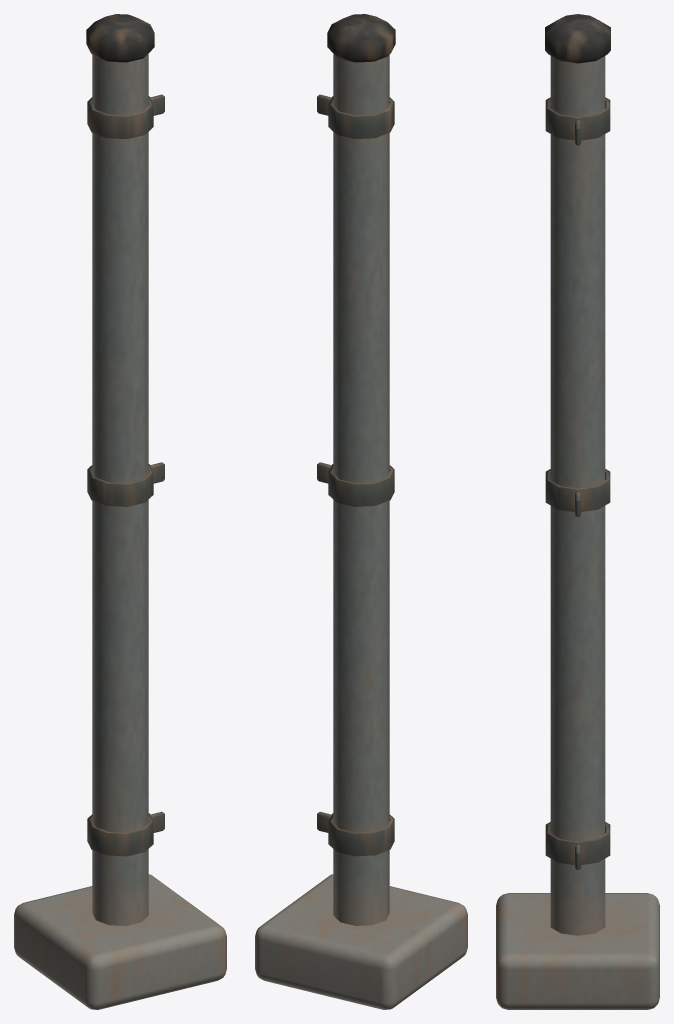
Rendered from plot_slupek.glb.
The picture shows the model from 3 angles, left to right: view 1: azimuth 30°, elevation 25°; view 2: azimuth 150°, elevation 25°; view 3: azimuth 270°, elevation 25°; orthographic projection.
Visible parts, largest first — view 1: Slupek; view 2: Slupek; view 3: Slupek.
Boxes of the visible parts, <box> form: Slupek: <box>14,14,226,1009</box>; Slupek: <box>255,14,467,1009</box>; Slupek: <box>496,14,659,1009</box>.
Size of the model in its own units: 0.16 by 1.03 by 0.16.
1 material, 1 textured.
